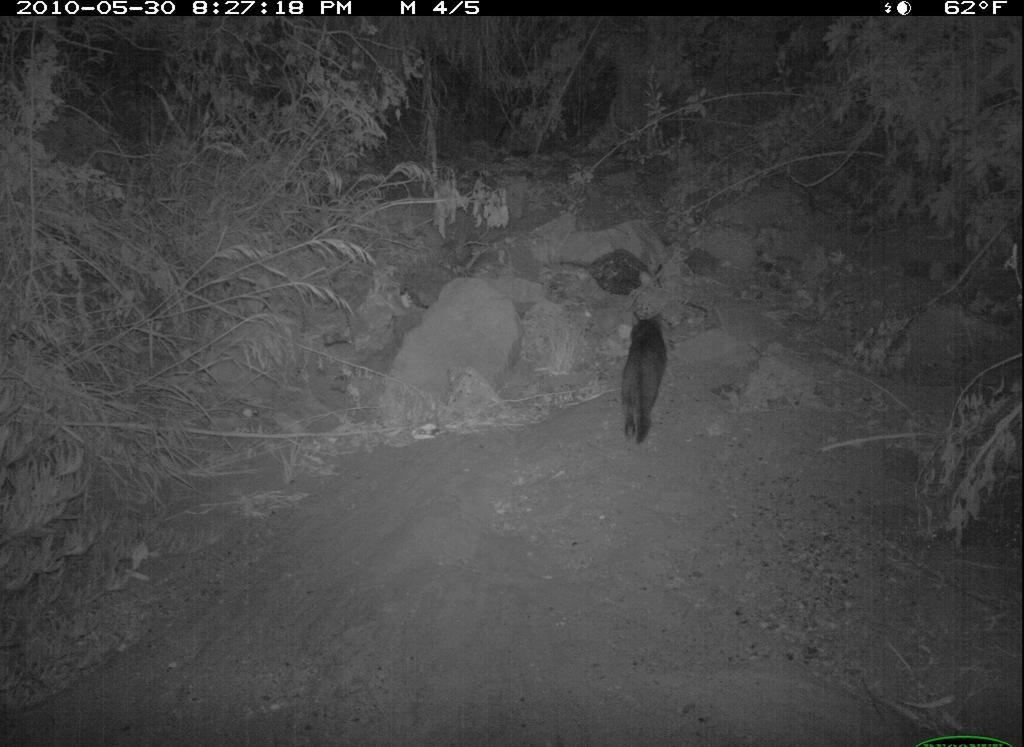cat: (617, 304, 673, 451)
